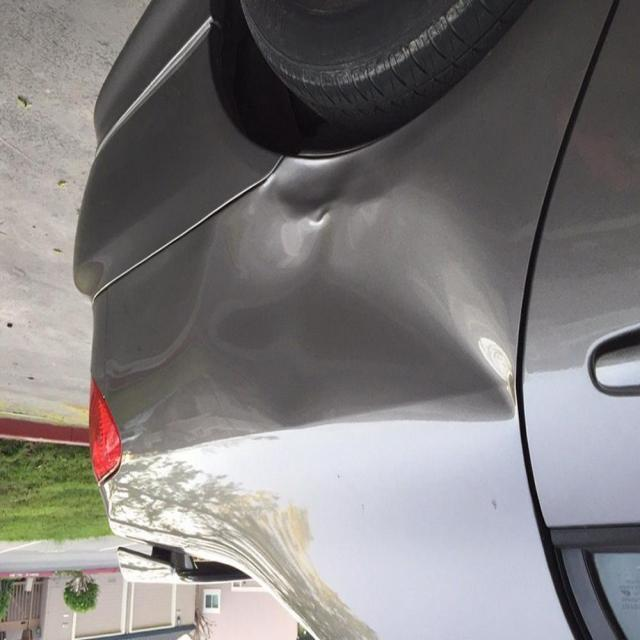dent: (220, 144, 396, 276)
